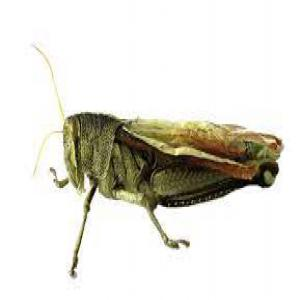locust: (34, 56, 288, 251)
